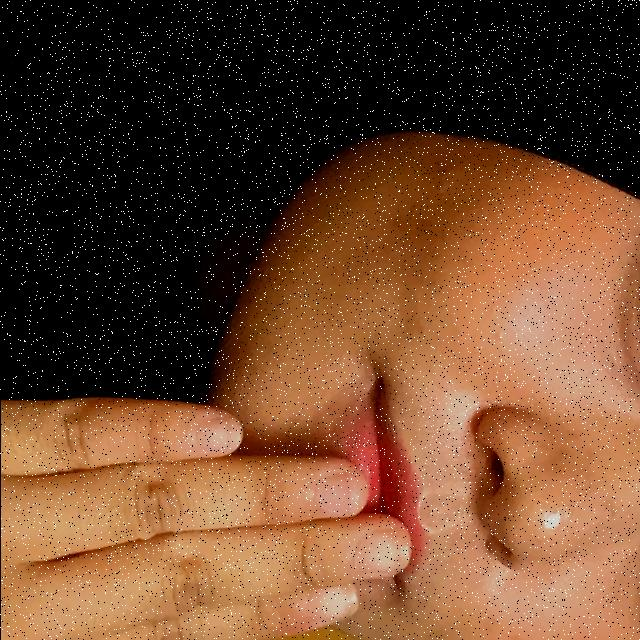ganteng: (0, 285, 449, 640)
